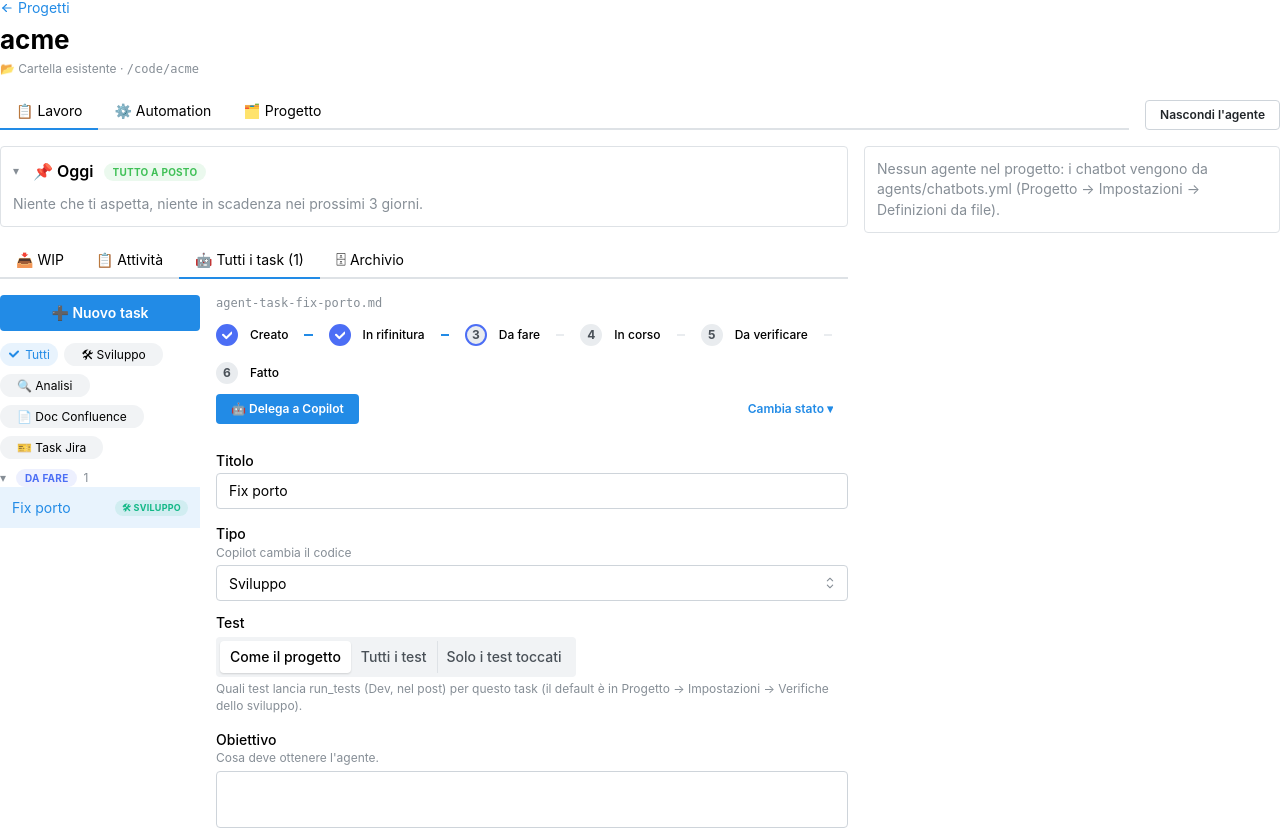
Copilot › is delegated from the task's form, which then shows its chat in the panel
The image size is (1280, 838).
Click the button "🤖 Delega a Copilot": [287, 409] box [216,394,359,424]
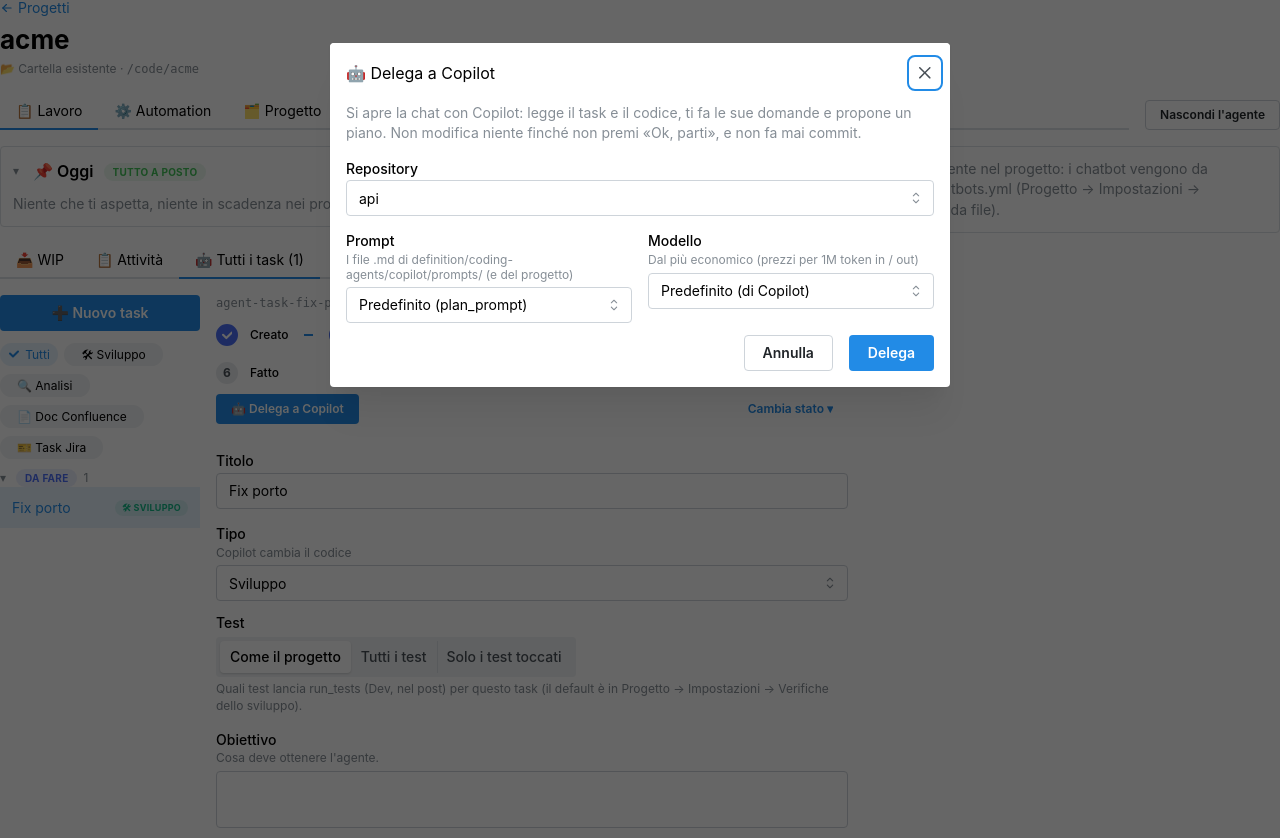
Now the button "Delega" is enabled, box [849,335,934,371]
Click the field showing "Predefinito (di Copilot)": [791, 291] box [648,273,934,309]
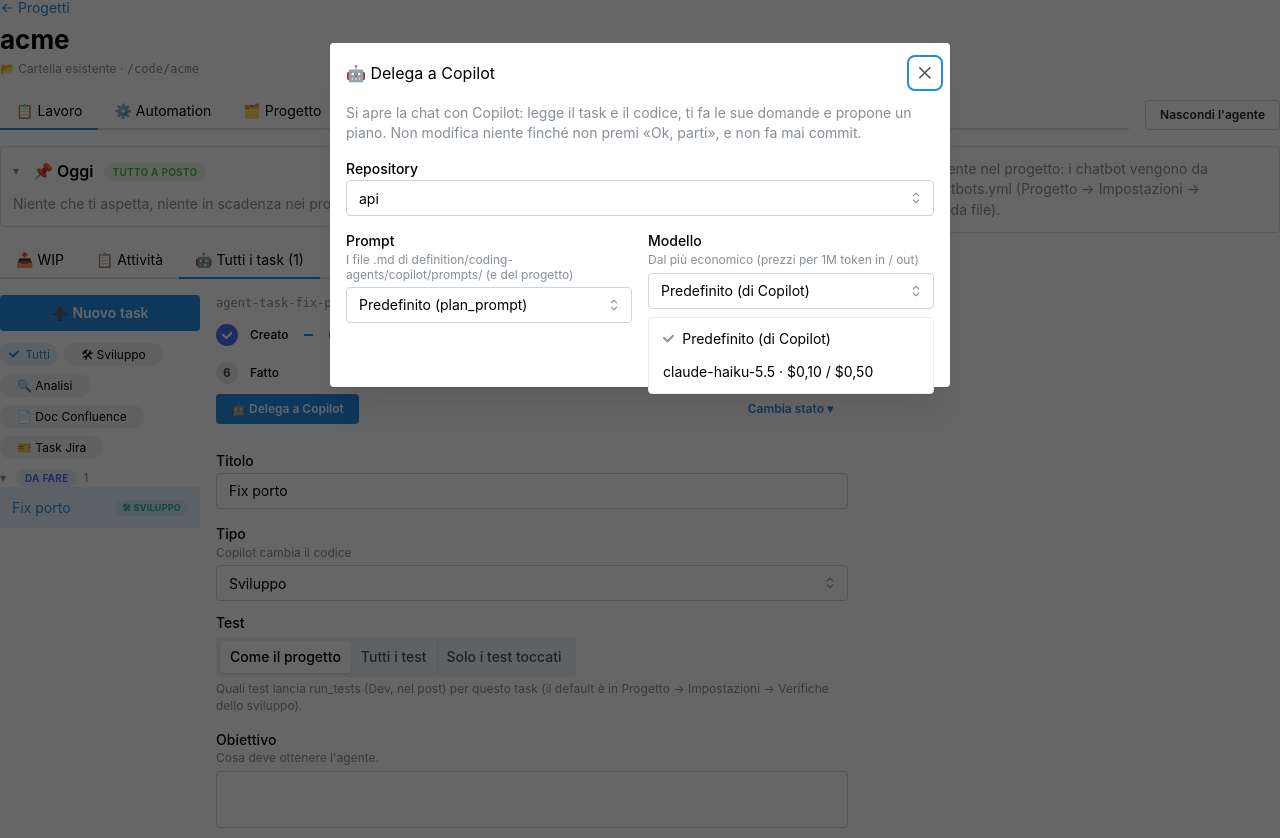
Click the option "claude-haiku-5.5 · $0,10 / $0,50": [768, 372] box [663,363,873,380]
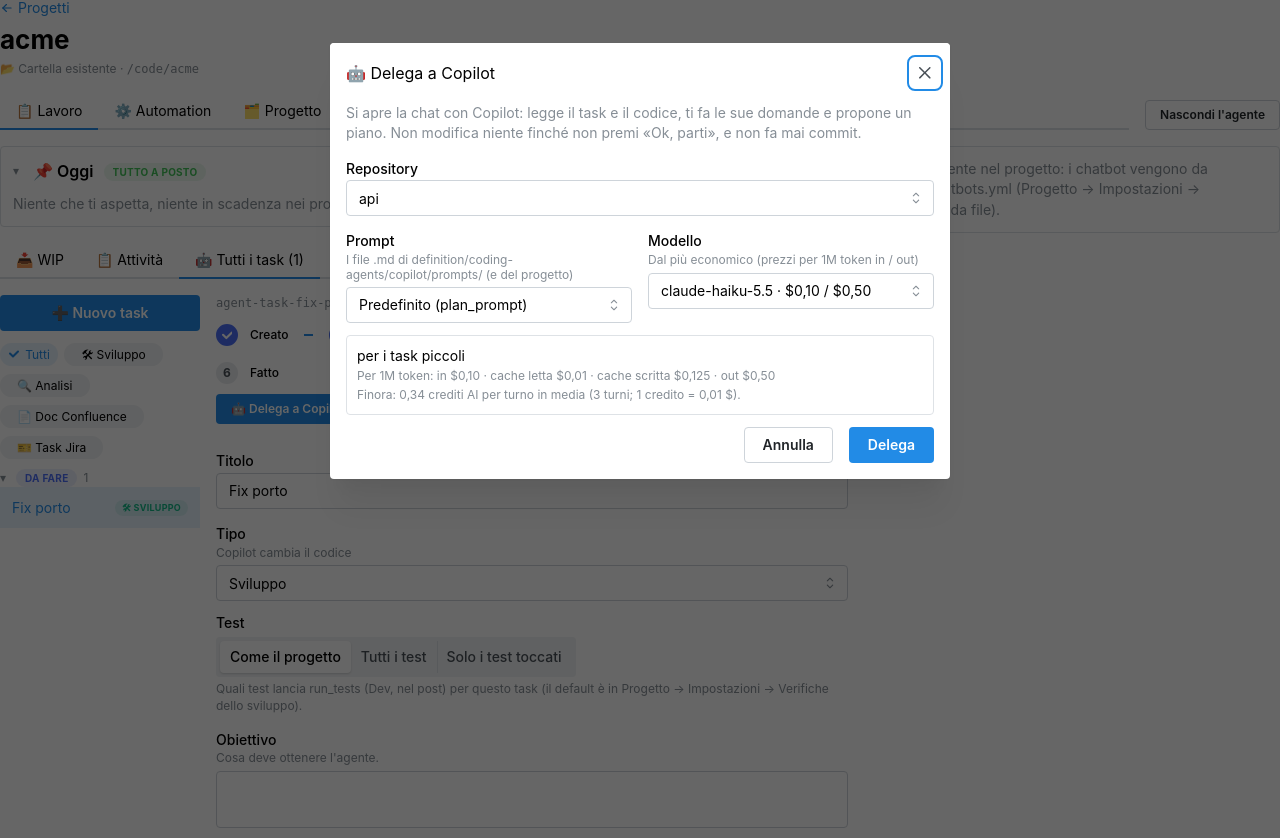
Now the text "per i task piccoli" is shown, box [357,347,465,364]
Click the button "Delega": [891, 445] box [849,427,934,463]
(page scrolled)
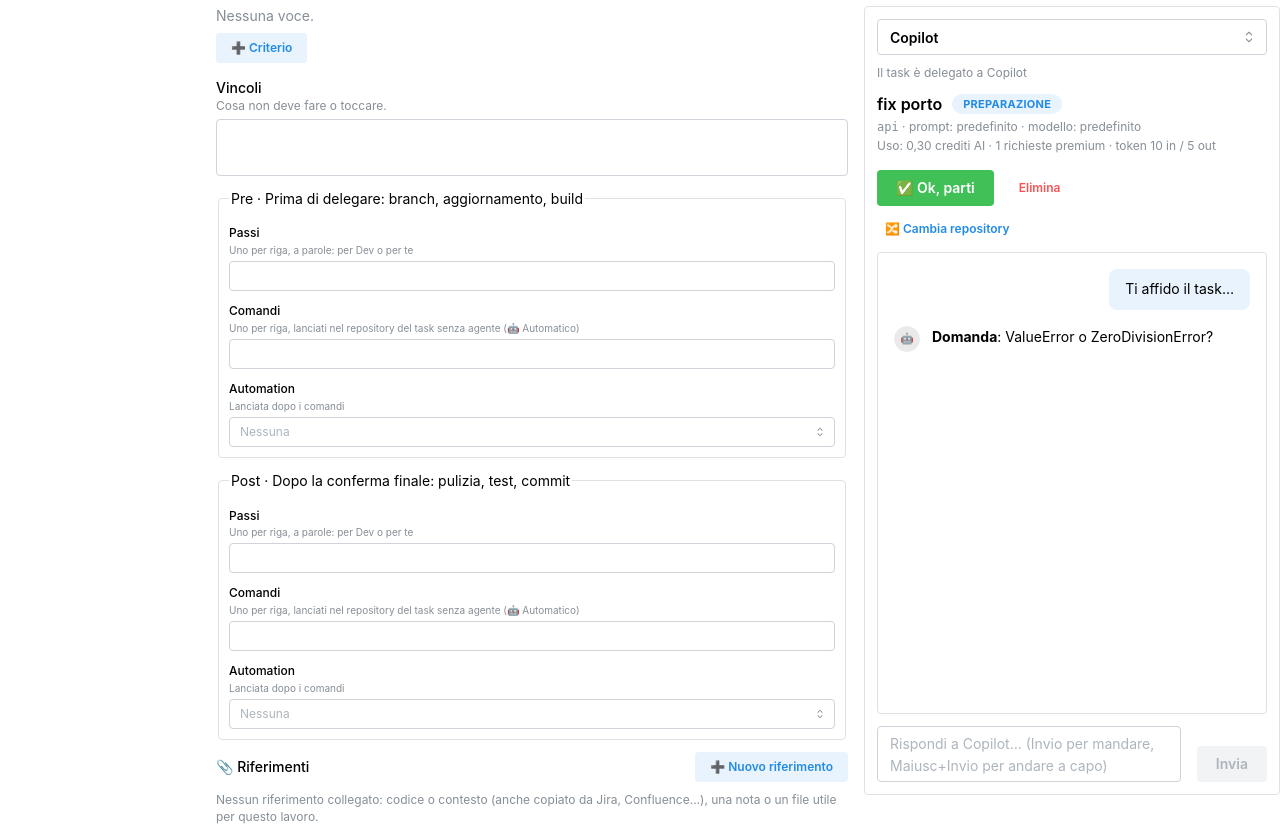
Now the text "Domanda" is shown, box [932,328,997,344]
